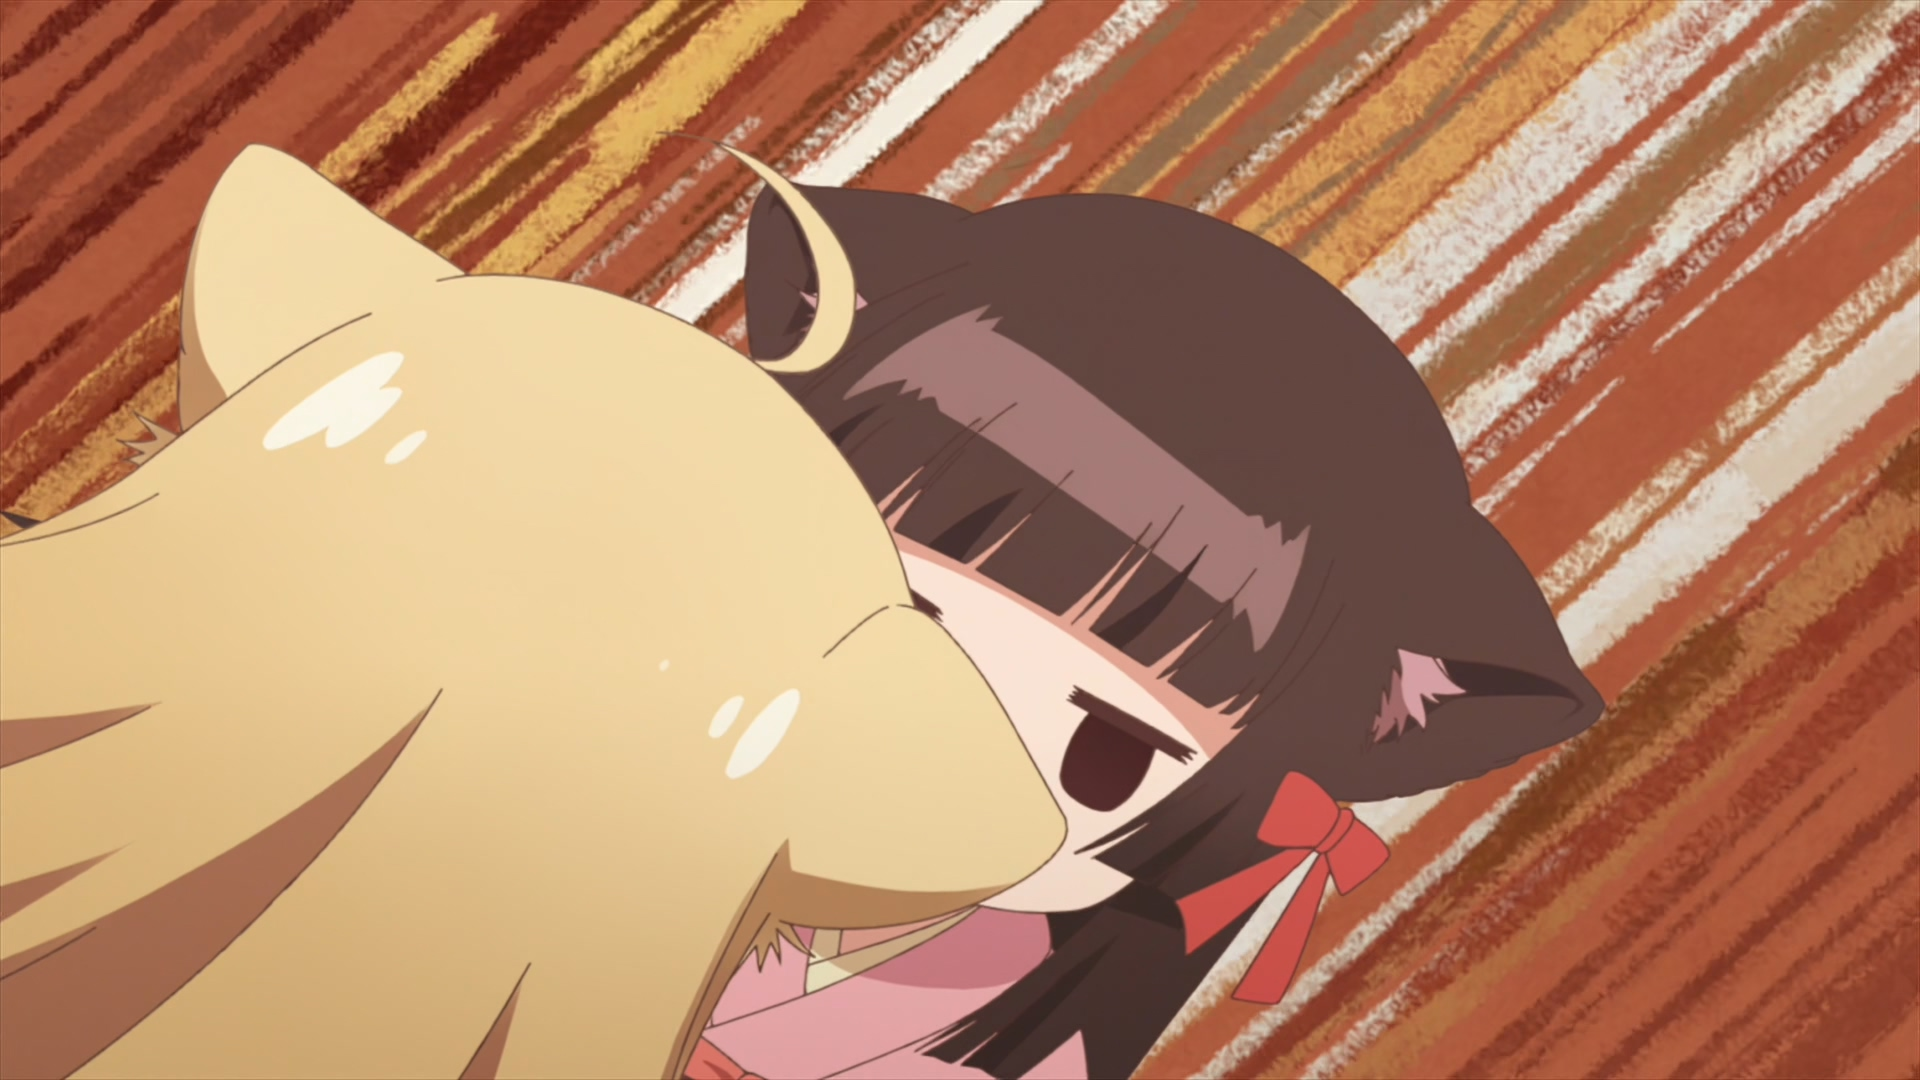柚: (1, 142, 1067, 1080)
樱: (680, 182, 1604, 1080)
